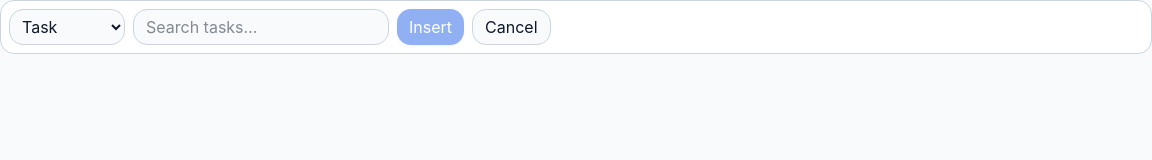
Test: WhiteboardLinkPicker › switching the type to Document searches documents instead
The image size is (1152, 160).
Select "Document" in the 1st dropdown: (67, 27) [9,9,125,45]
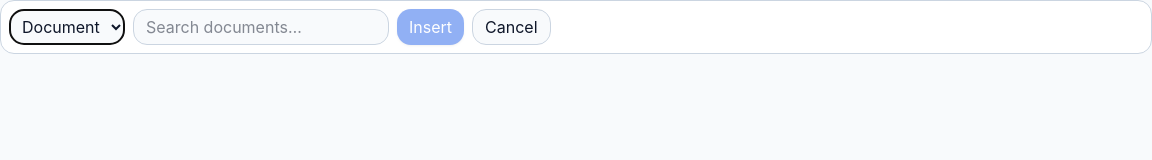
In the dropdown with placeholder "Search documents…": (261, 27) [133,9,389,45], type "launch"
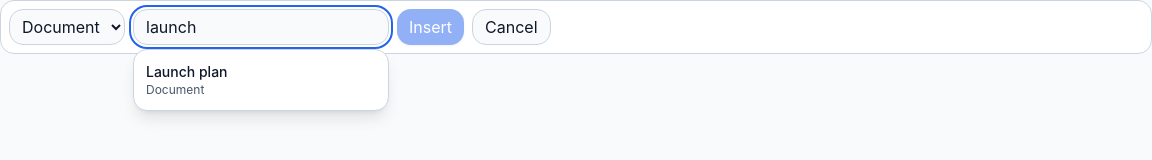
Expected: the text "Launch plan" is shown, [146,62,228,82]
